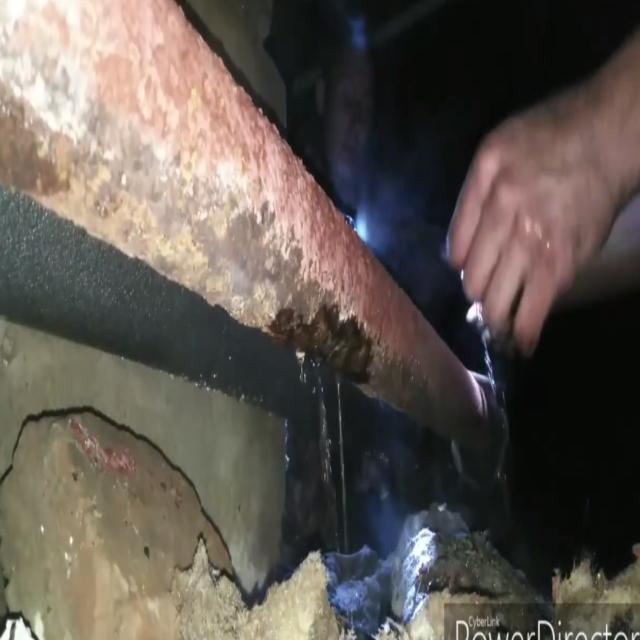leak: (337, 377, 348, 552), (318, 374, 331, 485)
